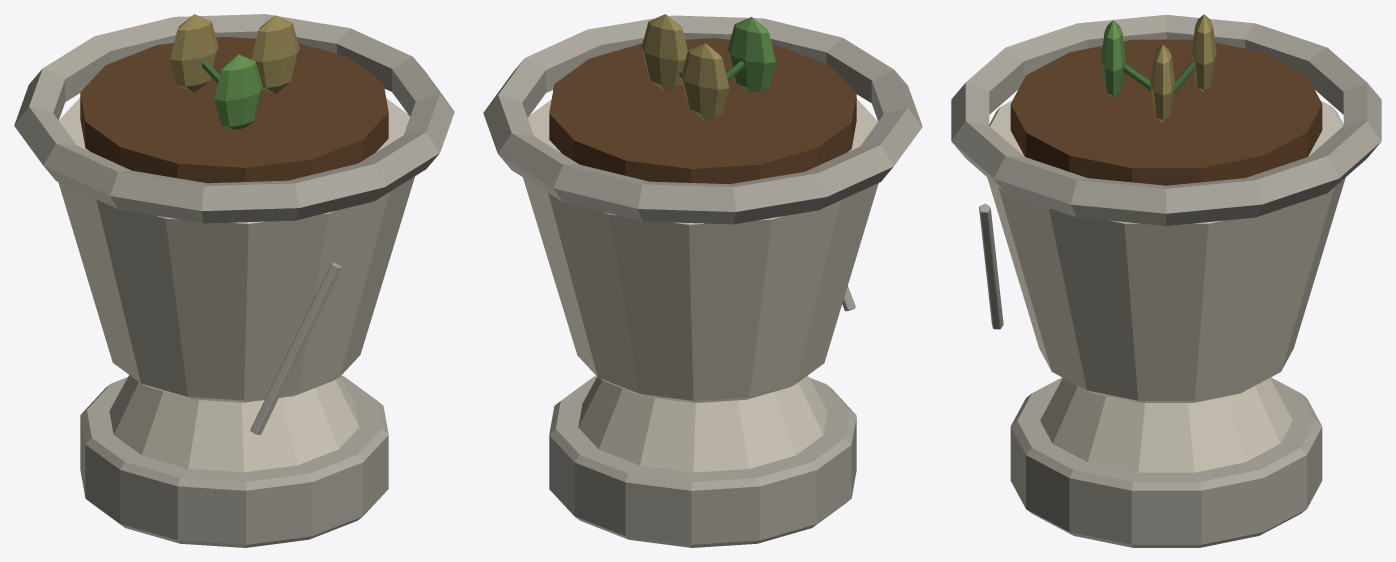
Rendered from runtime.glb.
3 renders of one model, left to right at view 1: azimuth 30°, elevation 25°; view 2: azimuth 150°, elevation 25°; view 3: azimuth 270°, elevation 25°, orthographic.
Parts seen in each view (by area): view 1: eiffel-historic-urn-v09_nocol; view 2: eiffel-historic-urn-v09_nocol; view 3: eiffel-historic-urn-v09_nocol.
Part boxes in pixels (<box>): eiffel-historic-urn-v09_nocol: <box>14,14,454,547</box>; eiffel-historic-urn-v09_nocol: <box>483,14,922,547</box>; eiffel-historic-urn-v09_nocol: <box>951,14,1381,547</box>.
Bounding box in the file's own units: 1.21 × 1.4 × 1.18.
